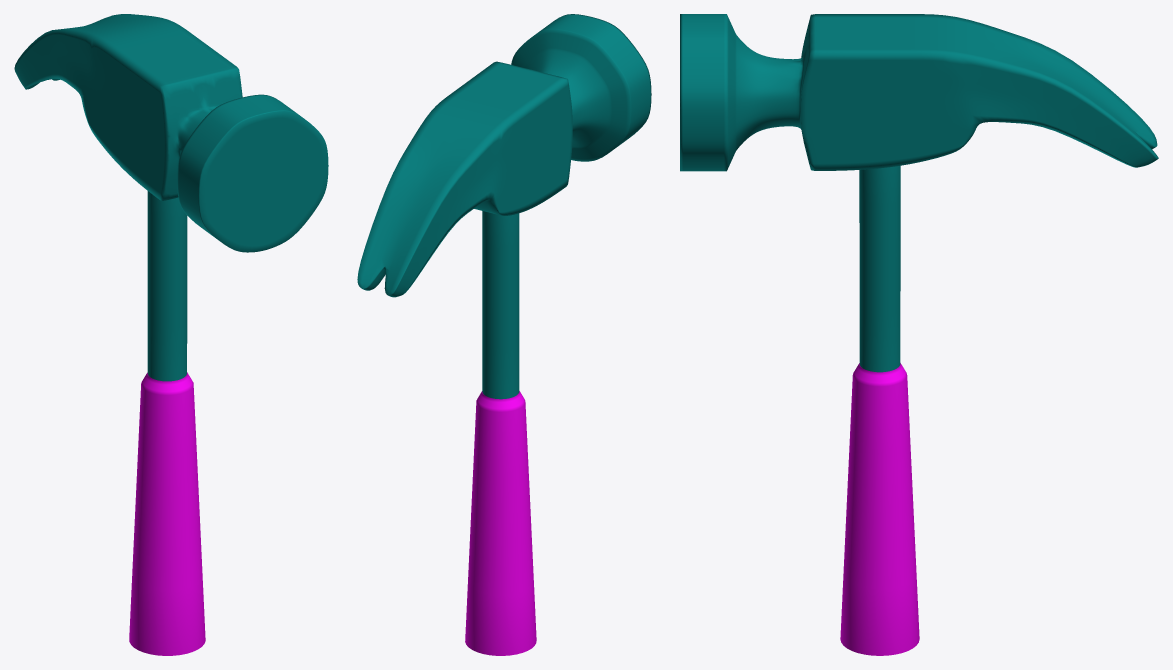
Rendered from hammer.fbx.
3 views of the same model, side by side, from view 1: azimuth 30°, elevation 25°; view 2: azimuth 150°, elevation 25°; view 3: azimuth 270°, elevation 25° (orthographic). The views are drawn at different scales.
Parts seen in each view (by area): view 1: superhammer_low (×2); view 2: superhammer_low (×2); view 3: superhammer_low (×2).
Part boxes in pixels (box(x1,y1,x2,y2)): superhammer_low (×2): box(14, 14, 328, 655); superhammer_low (×2): box(357, 14, 651, 655); superhammer_low (×2): box(680, 14, 1158, 655).
Size of the model in its own units: 4.75 by 21.02 by 14.8.
